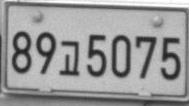0: (110, 34, 132, 79)
5: (159, 36, 182, 81), (85, 33, 107, 77)
7: (135, 34, 157, 80)
8: (10, 29, 32, 74)
9: (34, 30, 57, 75)
고: (59, 39, 80, 76)
